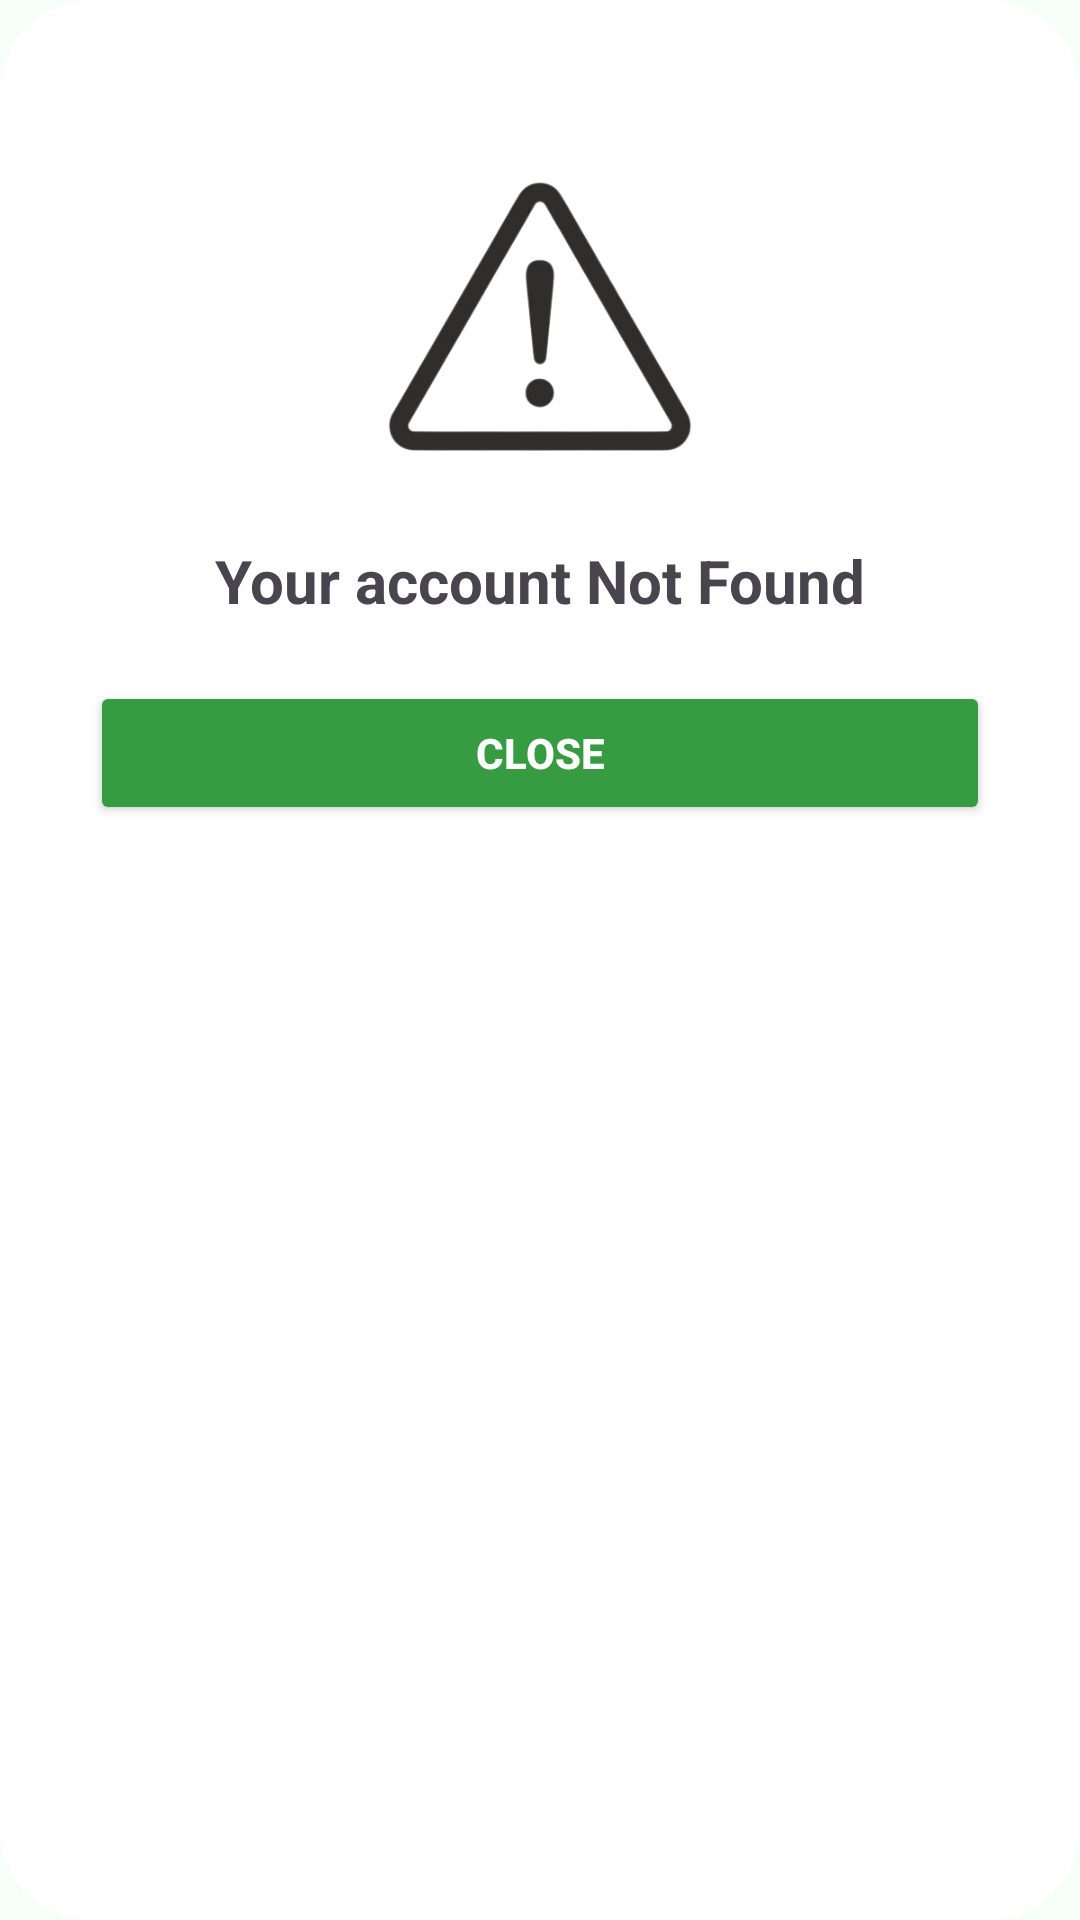

Locate icon controls on the screen. Image size 1080 × 1920, boxes as [x1,y1,x2,y2].
warning: [389,182,691,451]
